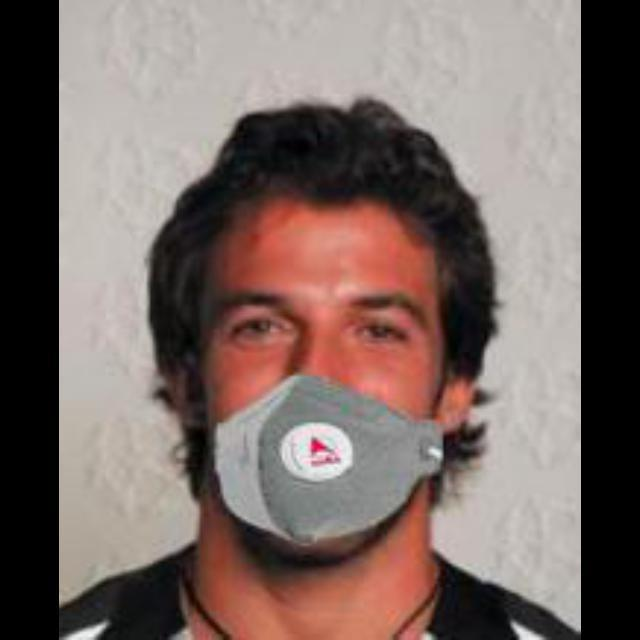suspicion: (178, 158, 466, 540)
